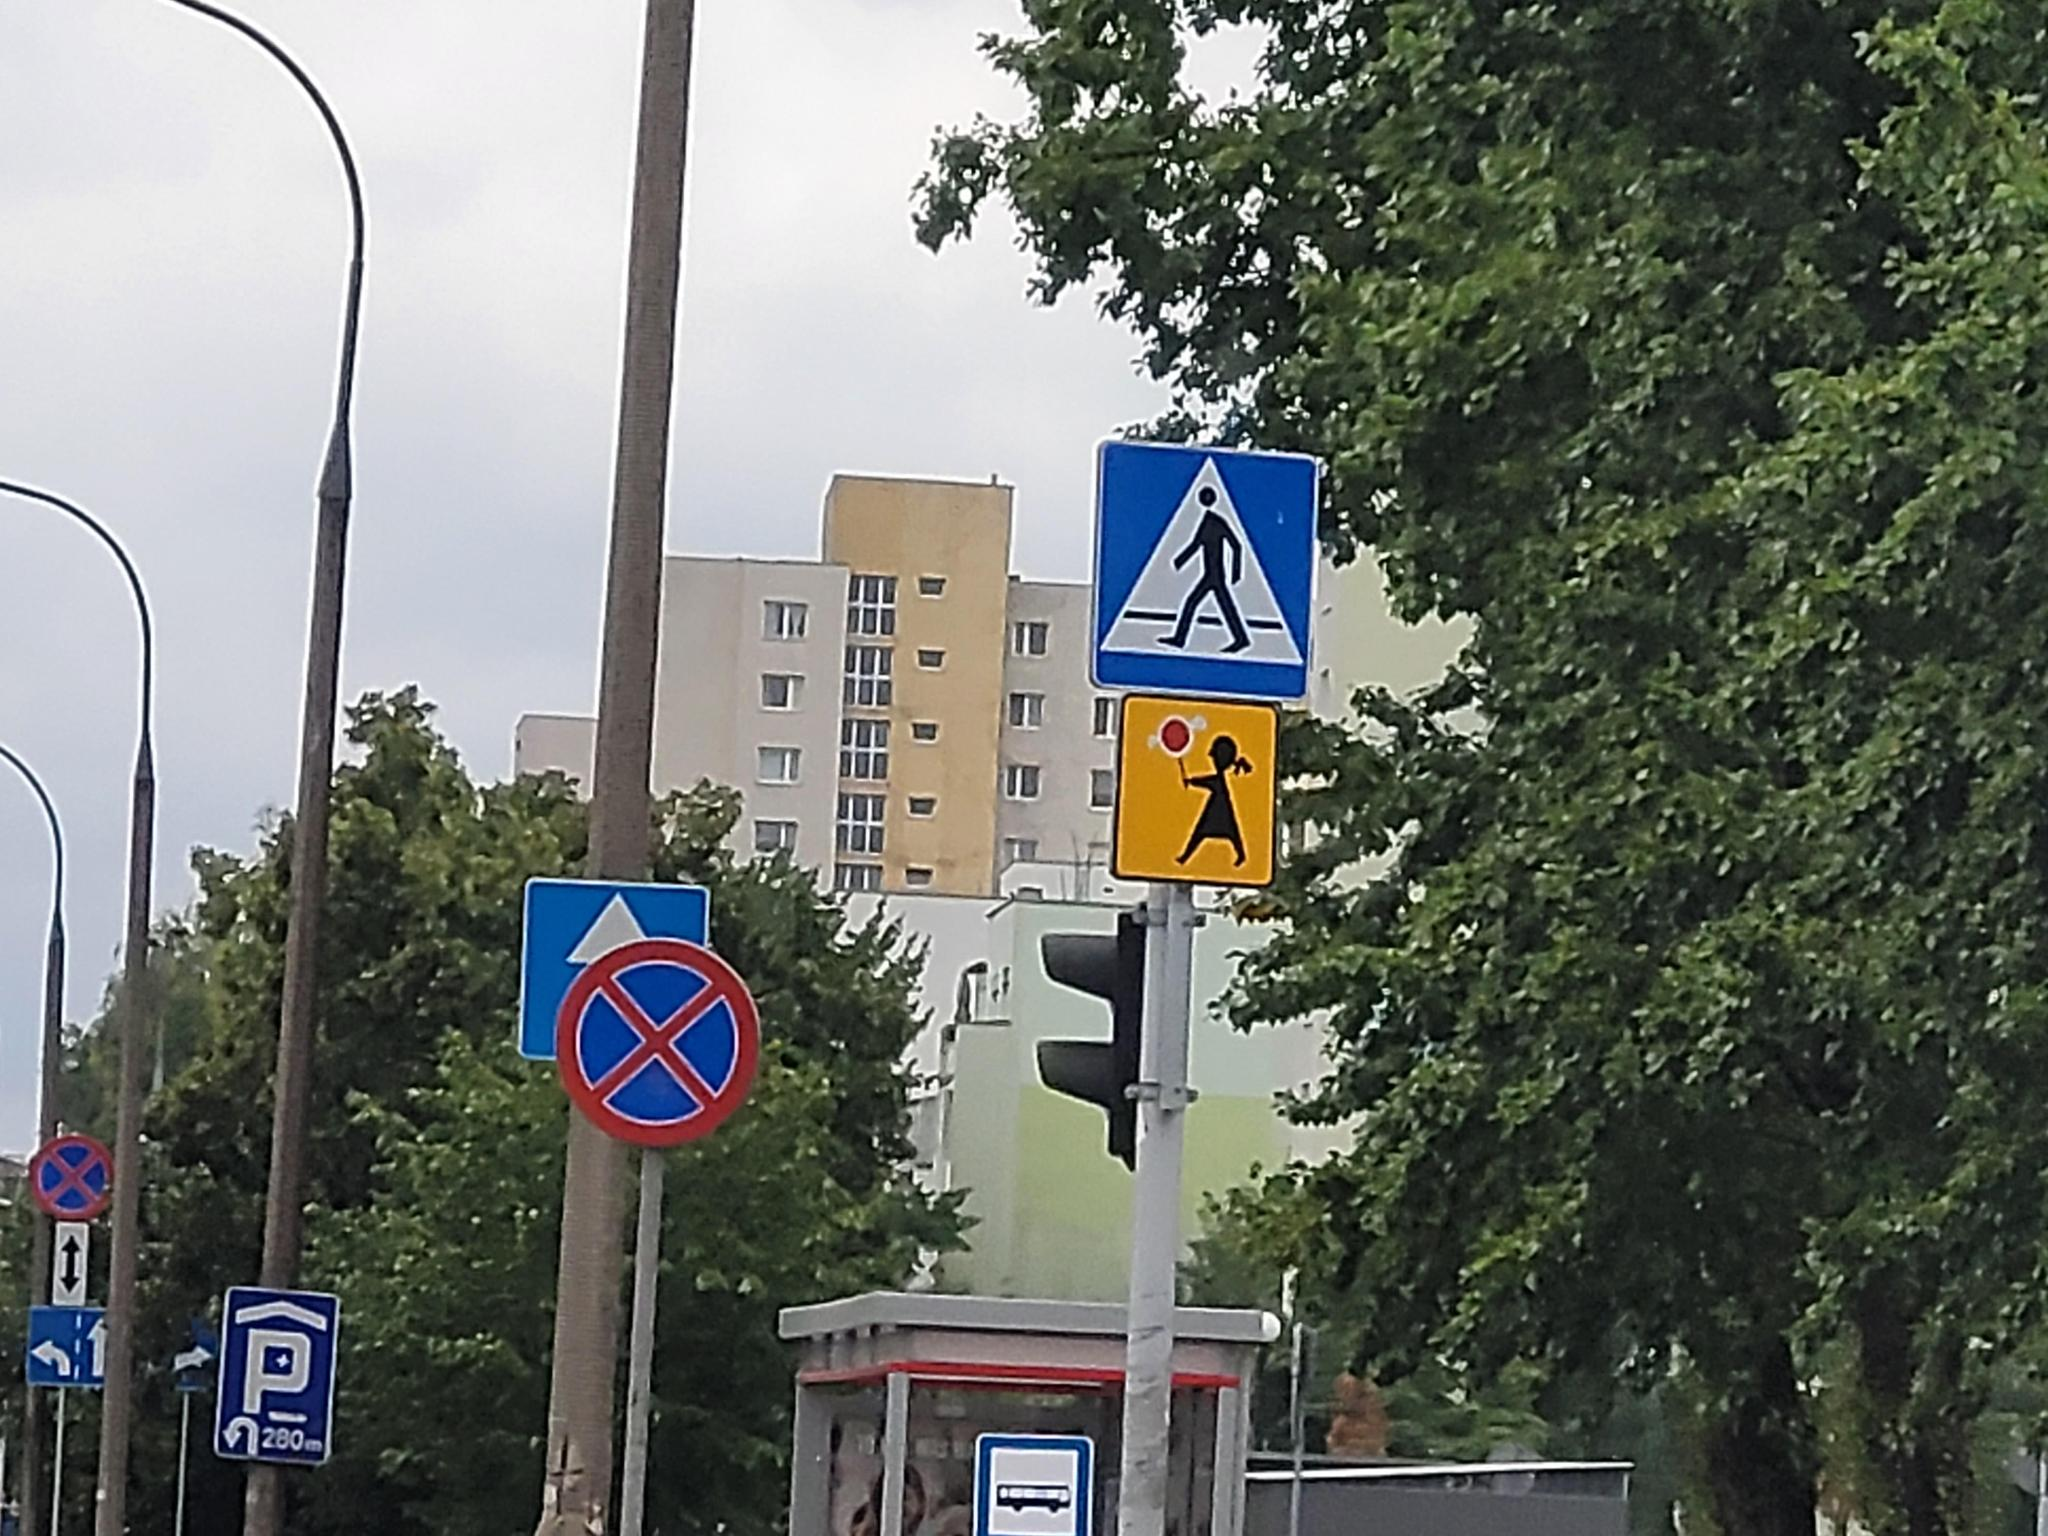information: (1093, 437, 1314, 695), (522, 878, 706, 1062), (224, 1291, 334, 1463)
other: (1118, 694, 1277, 884), (32, 1305, 106, 1386), (53, 1221, 85, 1305)
prohibitory: (553, 936, 763, 1150), (29, 1134, 118, 1223)
